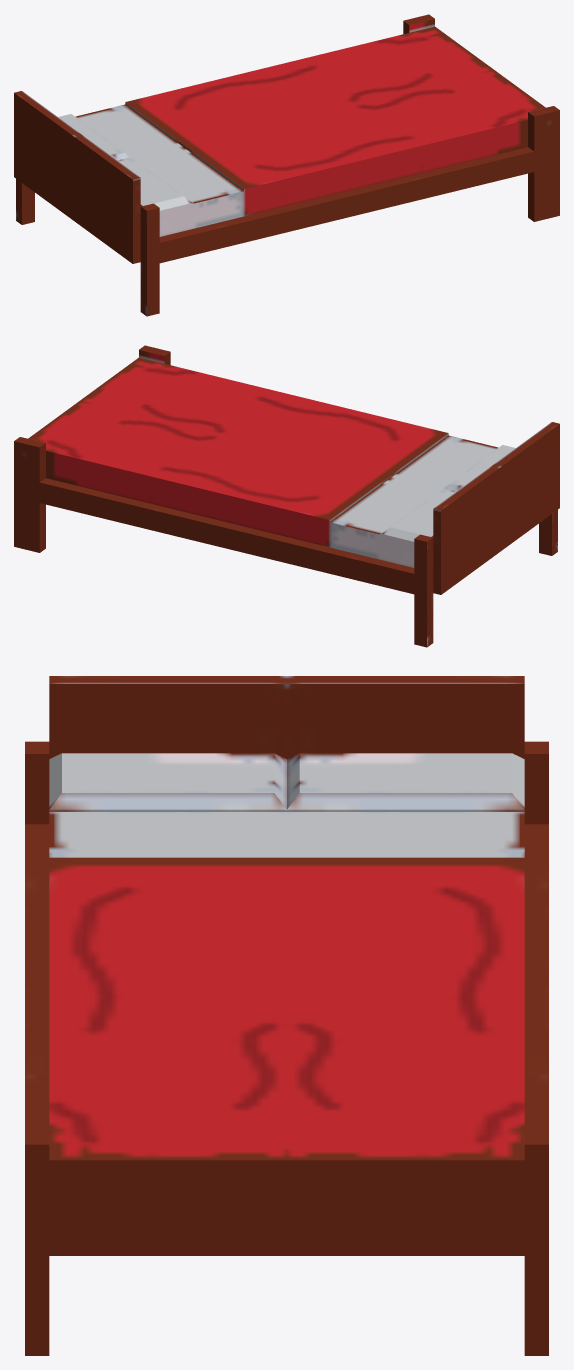
The model's file is Bed.fbx.
The picture shows the model from 3 angles, top to bottom: view 1: azimuth 30°, elevation 25°; view 2: azimuth 150°, elevation 25°; view 3: azimuth 270°, elevation 25°; orthographic projection. The views are drawn at different scales.
Parts seen in each view (by area): view 1: Cube; view 2: Cube; view 3: Cube.
Boxes of the visible parts, x1,y1,x2,y2 form: Cube: (14, 14, 559, 316); Cube: (14, 345, 559, 647); Cube: (25, 676, 548, 1355).
Bounding box in the file's own units: 796 × 243 × 429.
Materials: 1 (1 with a texture image).
